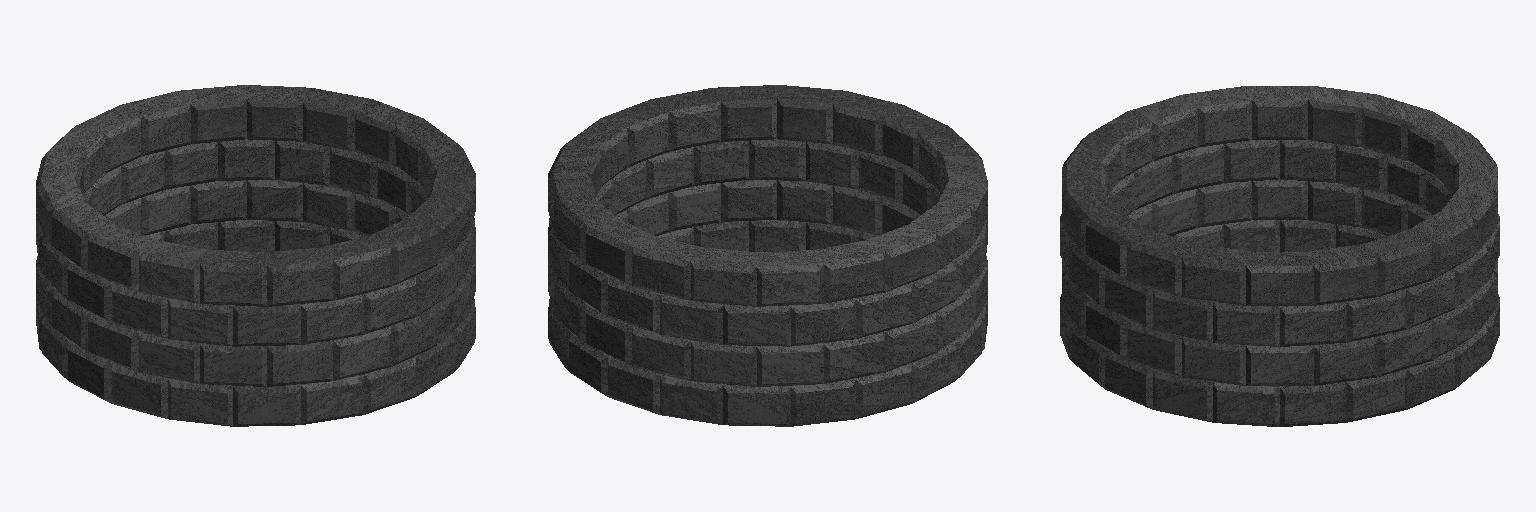
3 views of the same model, side by side, from view 1: azimuth 30°, elevation 25°; view 2: azimuth 150°, elevation 25°; view 3: azimuth 270°, elevation 25° (orthographic).
Parts seen in each view (by area): view 1: Well; view 2: Well; view 3: Well.
Part boxes in pixels (bbox=[...]): Well: bbox=[36, 85, 475, 426]; Well: bbox=[548, 85, 987, 426]; Well: bbox=[1060, 86, 1499, 426].
Size of the model in its own units: 1.99 by 0.8 by 1.99.
1 materials, 1 textured.